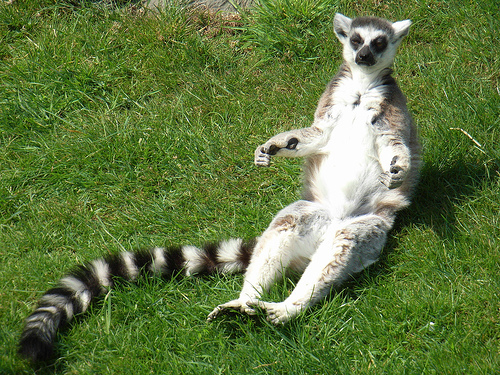cat: (17, 10, 424, 372)
